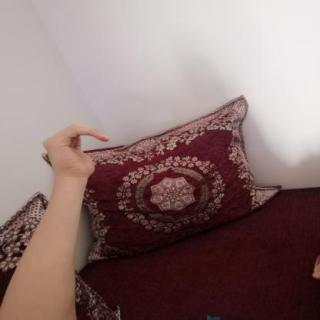HAA: (33, 119, 118, 184)
